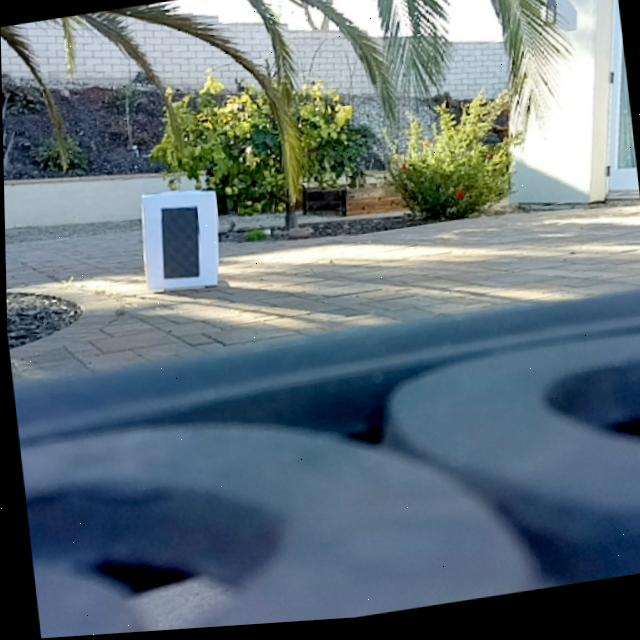led: (154, 203, 204, 286)
